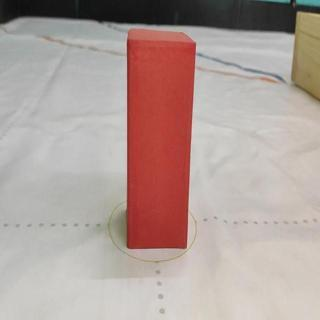redbox: (125, 28, 197, 250)
